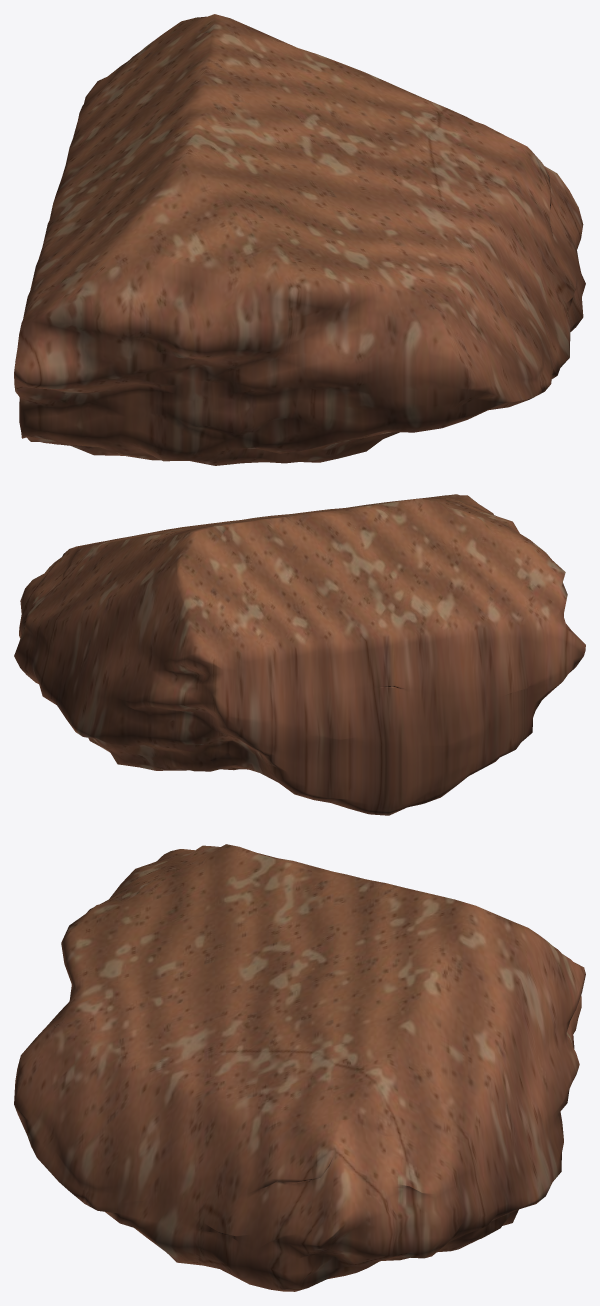
Rendered from rock-redstone-2.full.glb.
3 renders of one model, top to bottom at view 1: azimuth 30°, elevation 25°; view 2: azimuth 150°, elevation 25°; view 3: azimuth 270°, elevation 25°, orthographic. The views are drawn at different scales.
Visible parts, largest first — view 1: model; view 2: model; view 3: model.
Part boxes in pixels (bbox=[...]): model: bbox=[14, 14, 585, 465]; model: bbox=[14, 494, 585, 815]; model: bbox=[14, 844, 585, 1291].
Size of the model in its own units: 1 by 0.5119 by 0.8304.
Materials: 1 (1 with a texture image).
